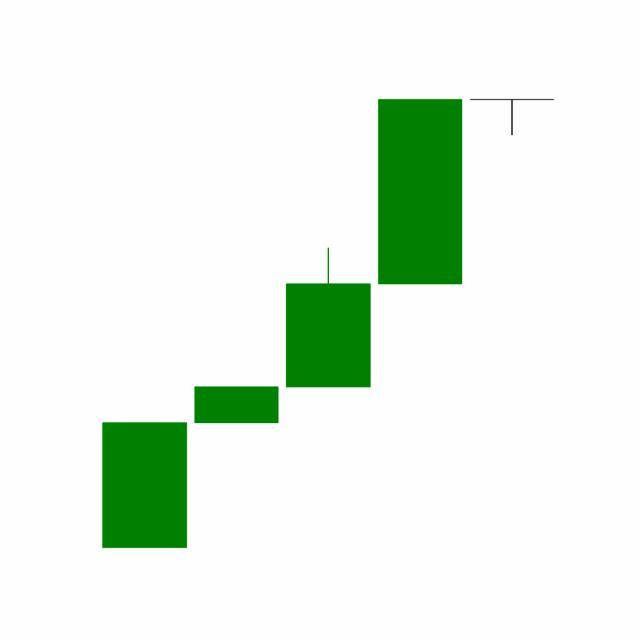Dragonfly Doji: (466, 98, 559, 136)
